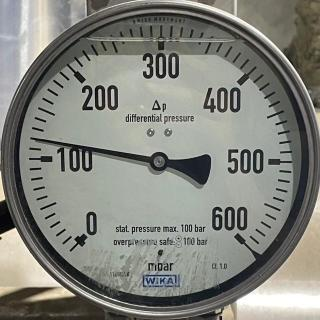gauge: (0, 0, 320, 320), (66, 219, 98, 253), (225, 217, 251, 251), (148, 151, 169, 173), (27, 133, 41, 143)
